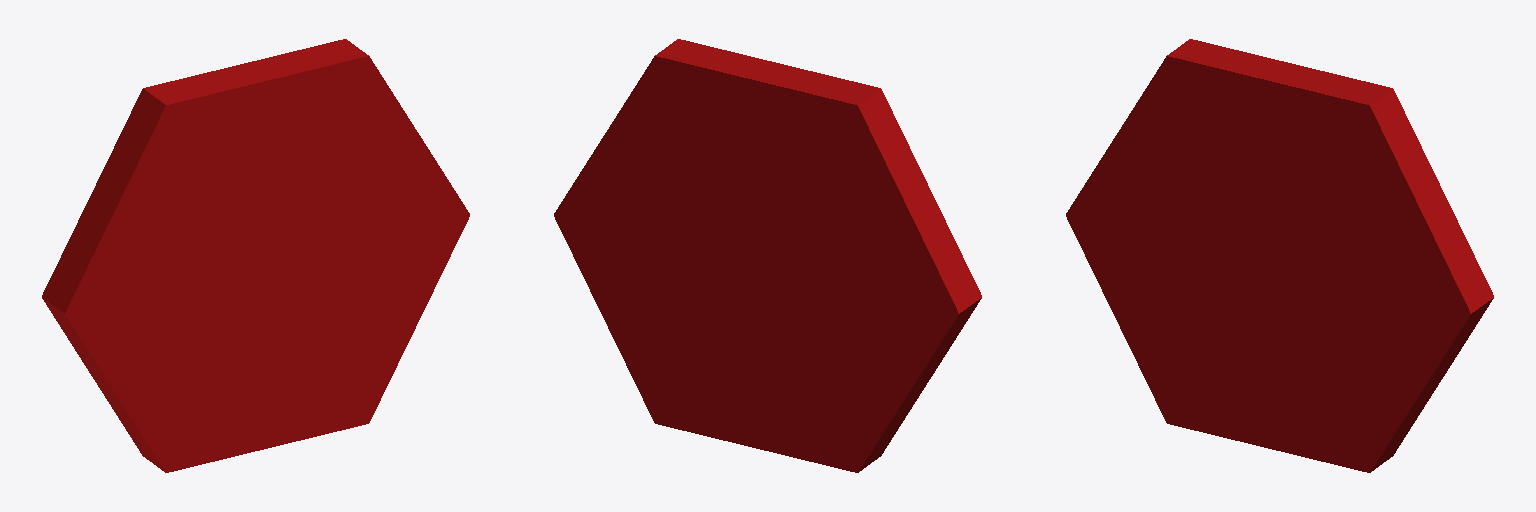
3 views of the same model, side by side, from view 1: azimuth 30°, elevation 25°; view 2: azimuth 150°, elevation 25°; view 3: azimuth 330°, elevation 25° (orthographic).
Parts seen in each view (by area): view 1: Hexagon; view 2: Hexagon; view 3: Hexagon.
Part boxes in pixels (x1,y1,x2,y2): Hexagon: (42, 39, 469, 472); Hexagon: (554, 39, 981, 472); Hexagon: (1066, 39, 1493, 472).
Bounding box in the file's own units: 0.2 × 0.1732 × 0.02.